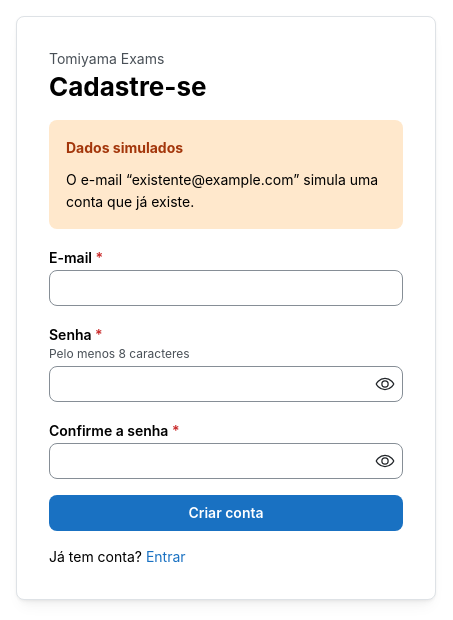
Test: cadastro (§ 6.1): "Trocar e-mail" durante um envio › ao trocar o e-mail, o passo do código sai do estado do router
Type "mae@example.com" into the field labelled "E-mail *" at (226, 288), box x1=49 y1=270 x2=403 y2=306
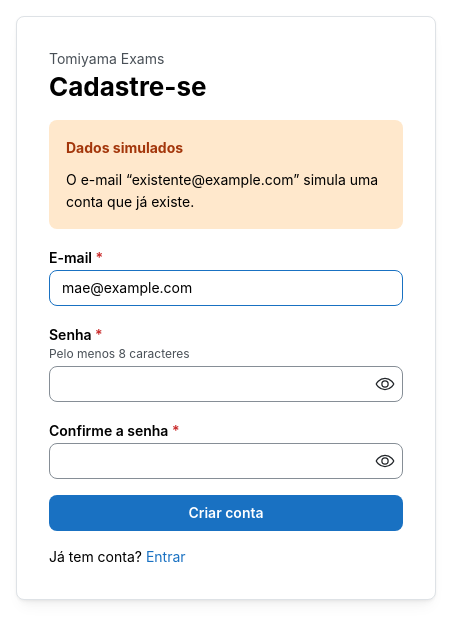
Type "senha-forte-1" into the password field labelled "Senha *" at (226, 384), box x1=50 y1=367 x2=402 y2=401
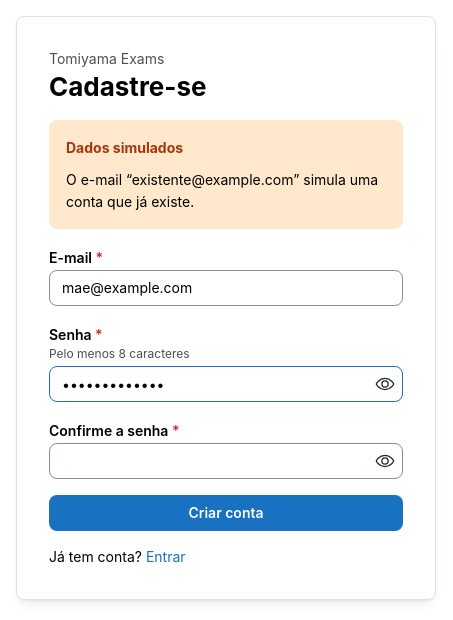
Type "senha-forte-1" into the password field labelled "Confirme a senha *" at (226, 461), box x1=50 y1=444 x2=402 y2=478
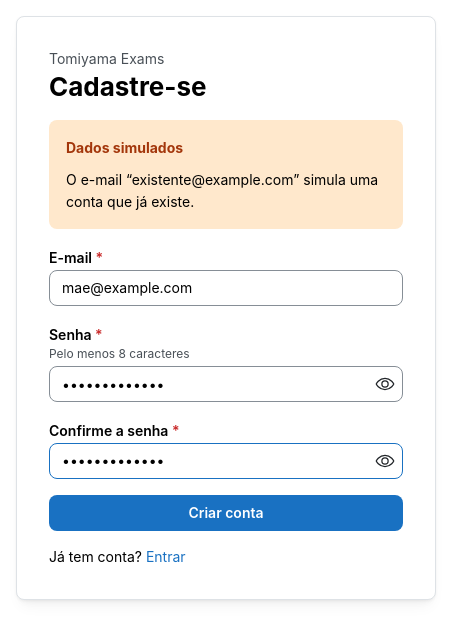
Click the button "Criar conta" at (226, 513), box x1=49 y1=495 x2=403 y2=531
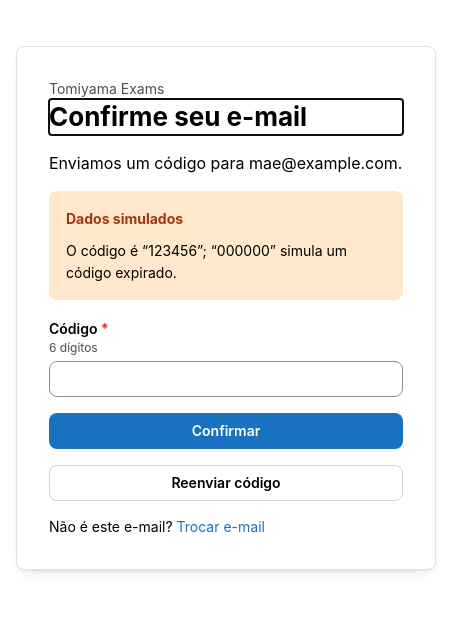
Expected: the heading "Confirme seu e-mail" is shown, x1=49 y1=101 x2=307 y2=132
Click the button "Trocar e-mail" at (221, 527), box x1=176 y1=517 x2=265 y2=537
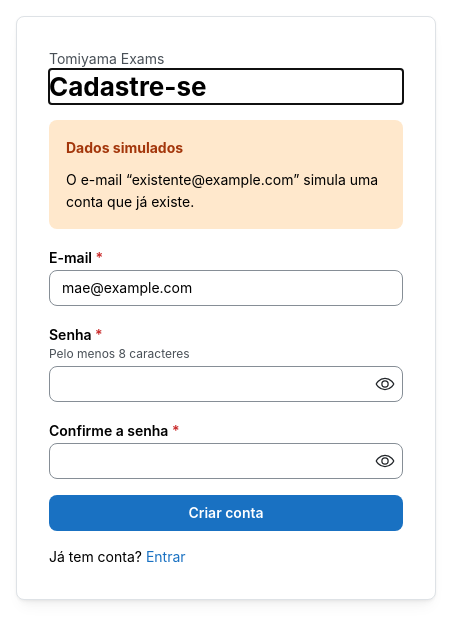
Expected: the heading "Cadastre-se" is shown, x1=49 y1=71 x2=207 y2=102
